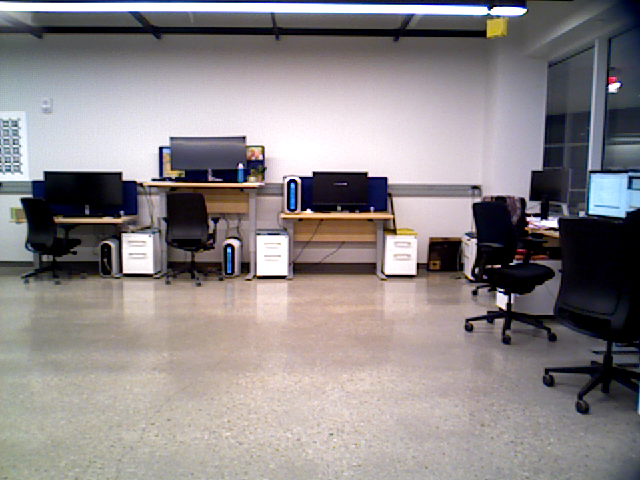painting4: (1, 111, 29, 180)
